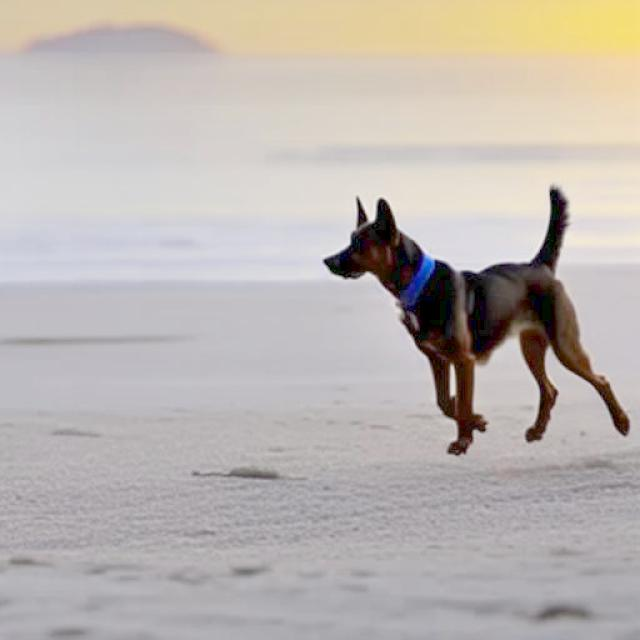Dog: (322, 182, 631, 456)
